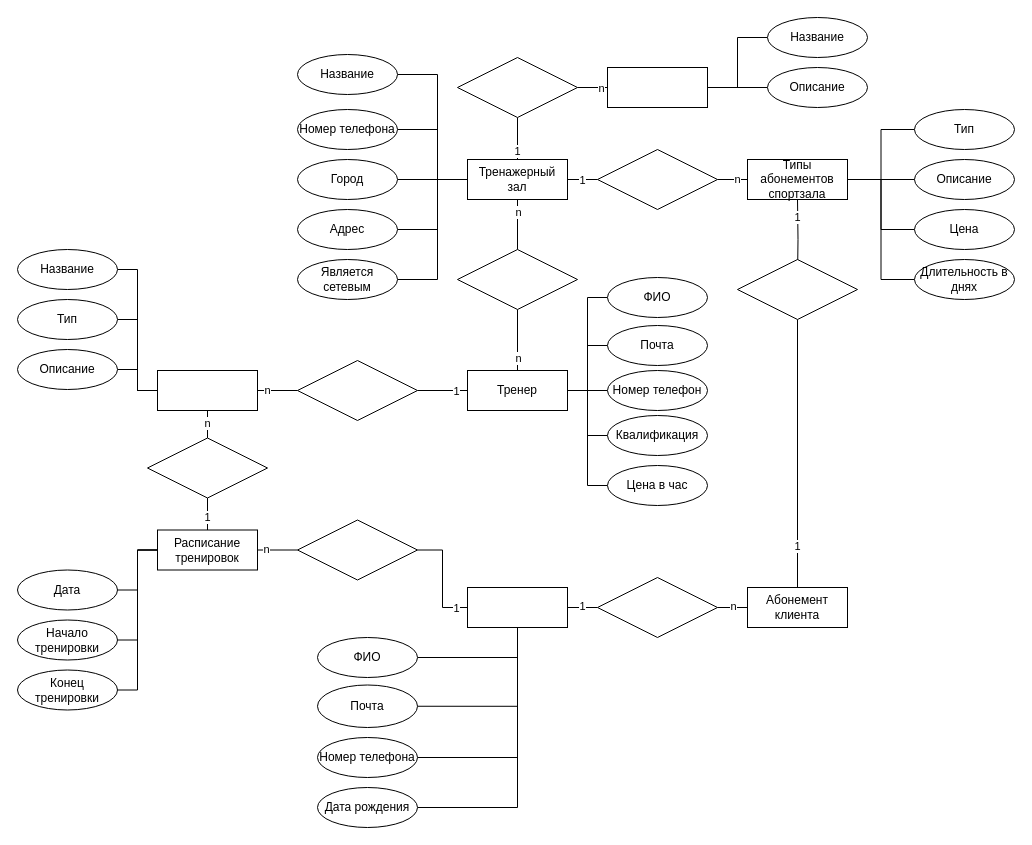
This 1032x845 diagram has some shape labels left out. The shapes that lost their labels are listed below. From the top down, each one's centre as x and y in pixels, then its label:
At (x=517, y=87): "Владеет".
At (x=657, y=87): "Оборудование".
At (x=657, y=179): "Предоставляет".
At (x=517, y=279): "Работает".
At (x=797, y=289): "Является экземпляром".
At (x=207, y=390): "Тренировка".
At (x=357, y=390): "Проводит".
At (x=207, y=467): "Находится".
At (x=357, y=549): "Составляет".
At (x=517, y=607): "Клиент".
At (x=657, y=607): "Имеет".
